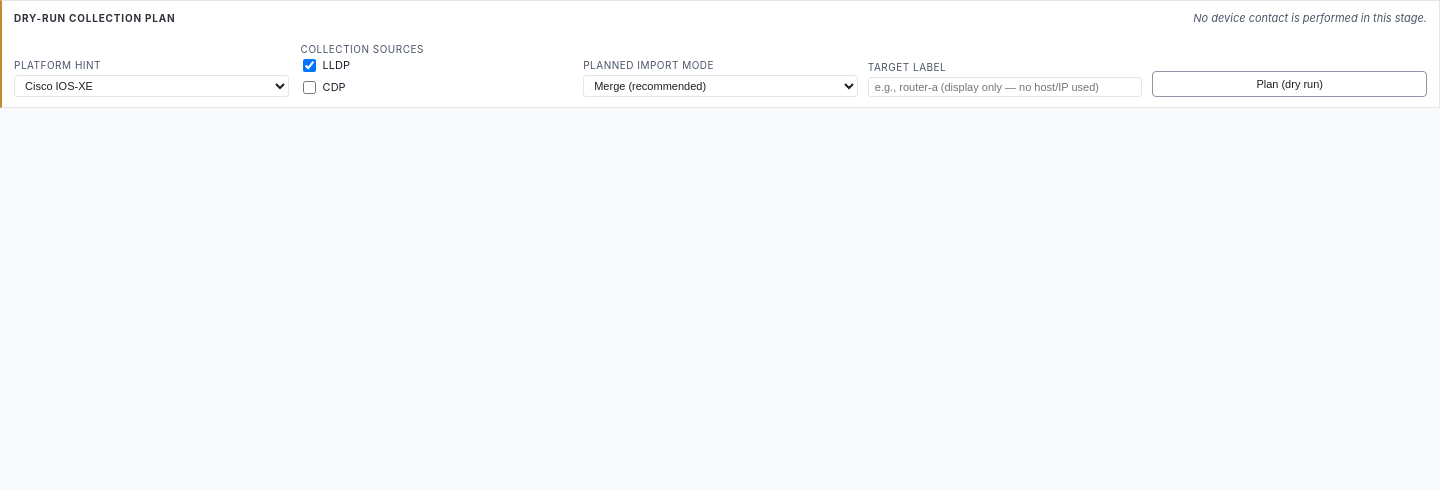
LiveCollectionDryRunPanel — V1AU fixture simulator › surfaces simulator errors observably without throwing
This screenshot has width=1440, height=490.
Click the button with test id "tm-live-collection-plan-button".
click(1290, 84)  # box x1=1152 y1=71 x2=1427 y2=97
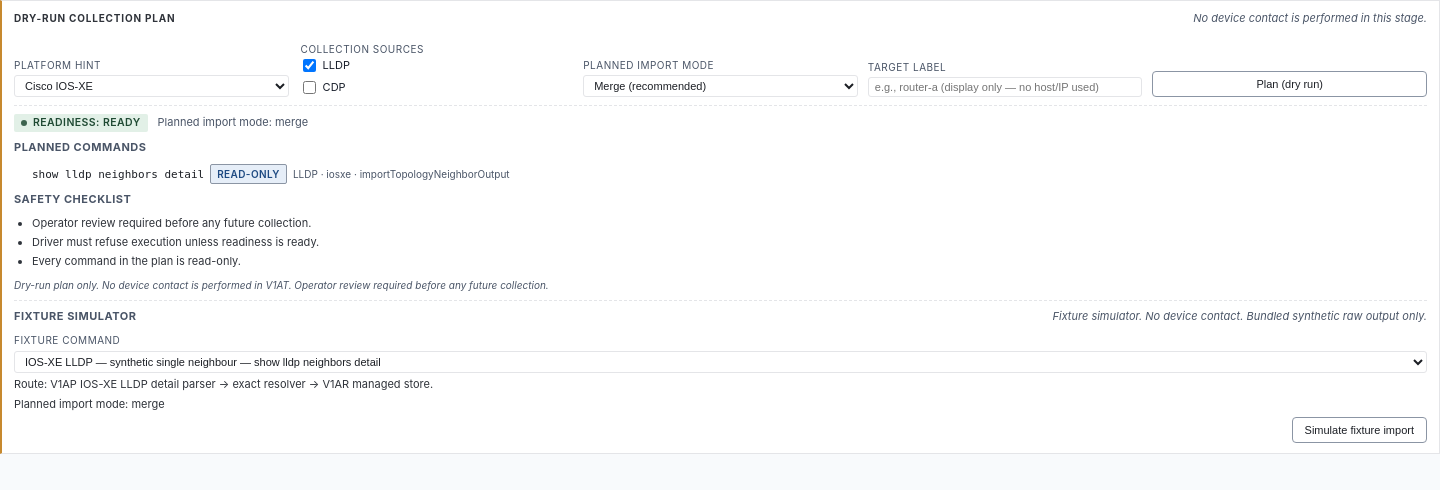
Click the button with test id "tm-live-simulator-button".
click(1359, 430)  # box x1=1292 y1=416 x2=1427 y2=442
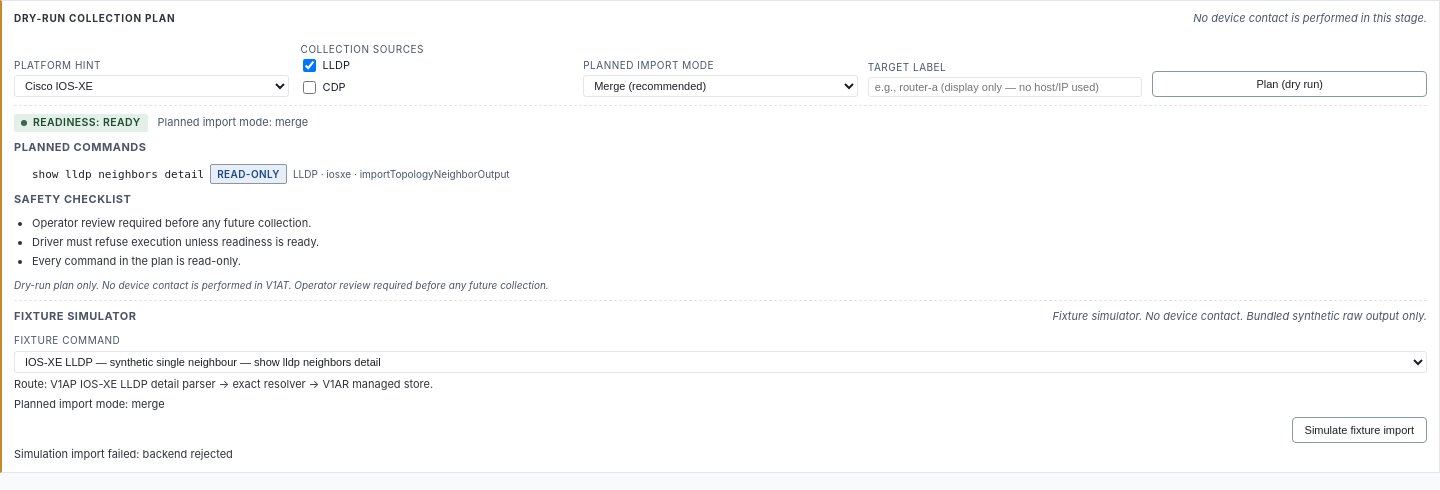
Expected: the text with test id "tm-live-simulator-error" reads "Simulation import failed: backend rejected", x1=14 y1=446 x2=233 y2=460
